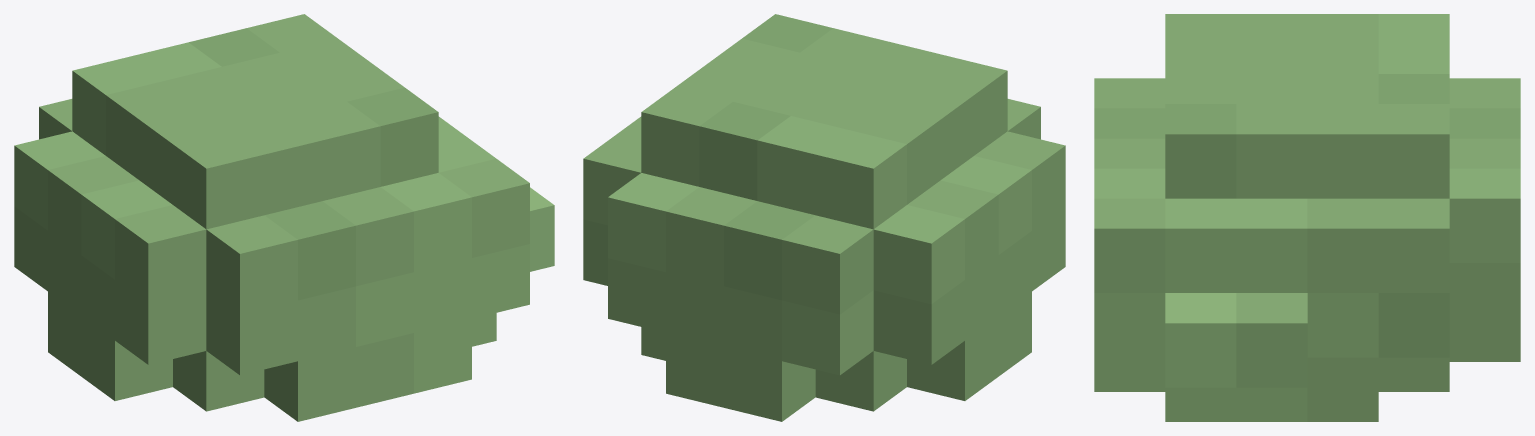
The model's file is buisson_1.glb.
3 views of the same model, side by side, from view 1: azimuth 30°, elevation 25°; view 2: azimuth 150°, elevation 25°; view 3: azimuth 270°, elevation 25° (orthographic). The views are drawn at different scales.
Visible parts, largest first — view 1: geometry_0; view 2: geometry_0; view 3: geometry_0.
Boxes of the visible parts, x1,y1,x2,y2 form: geometry_0: [14, 14, 554, 421]; geometry_0: [583, 14, 1065, 421]; geometry_0: [1094, 14, 1520, 421].
Size of the model in its own units: 1.75 by 1 by 1.5.
